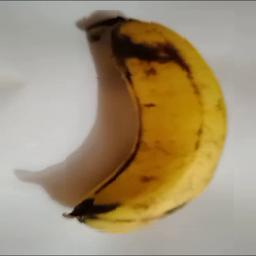Banana Semifresh: (66, 11, 235, 233)
